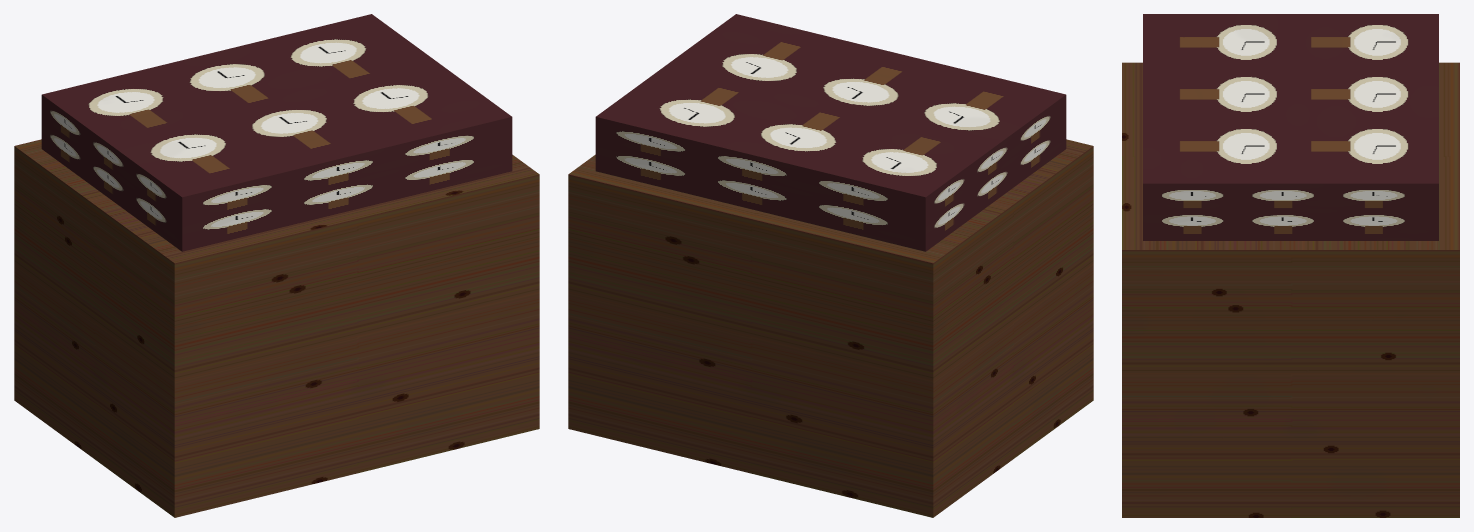
File: watchcase.glb
The picture shows the model from 3 angles, left to right: view 1: azimuth 30°, elevation 25°; view 2: azimuth 150°, elevation 25°; view 3: azimuth 270°, elevation 25°; orthographic projection. The views are drawn at different scales.
Visible parts, largest first — view 1: watchcase; view 2: watchcase; view 3: watchcase.
Part boxes in pixels (<box>): watchcase: <box>14,14,539,517</box>; watchcase: <box>568,14,1093,517</box>; watchcase: <box>1122,14,1459,517</box>.
Size of the model in its own units: 0.21 by 0.17 by 0.16.
1 material, 1 textured.
